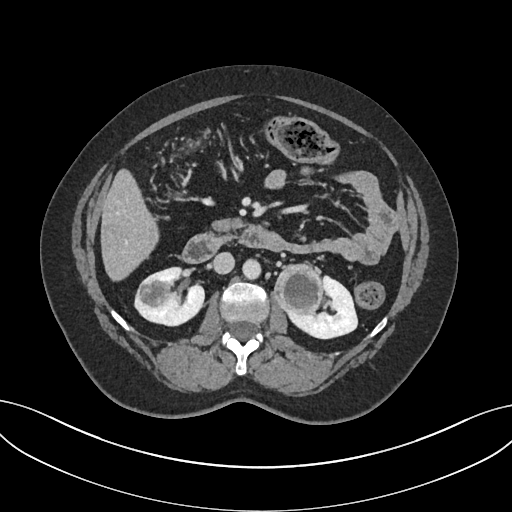Lesion: (273, 259, 326, 321)
